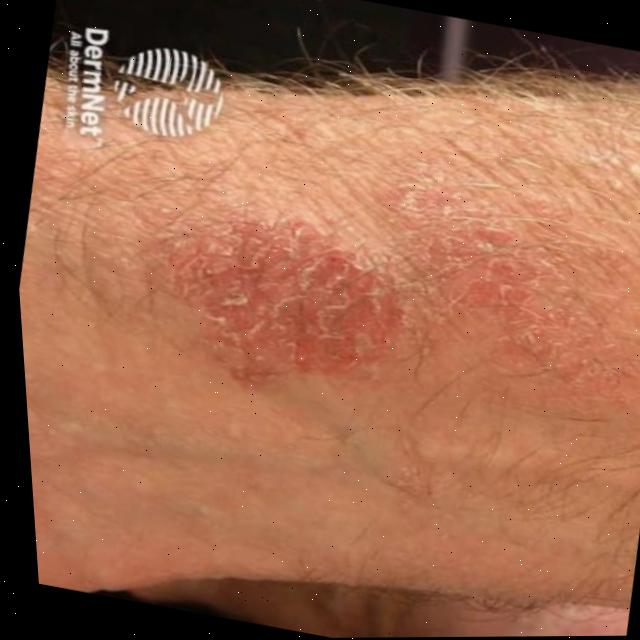Eczema: (124, 185, 402, 394)
